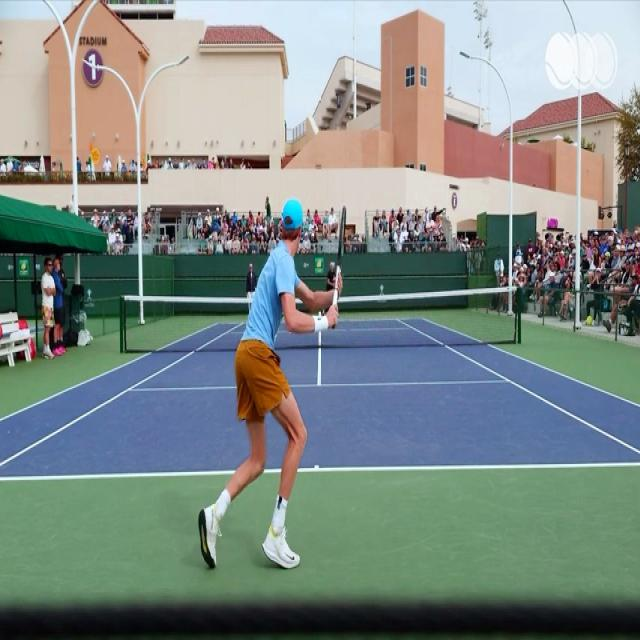forehand-ready: (210, 180, 346, 584)
